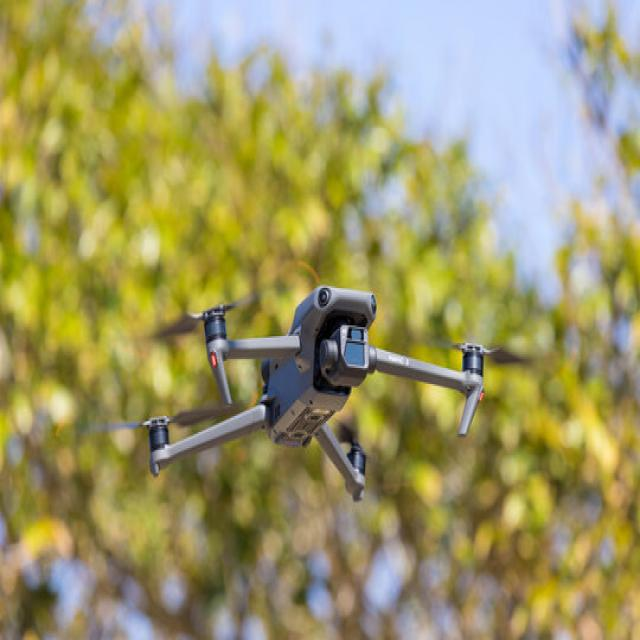Forest: (0, 0, 640, 638)
UAV - Drone: (106, 215, 518, 539)
